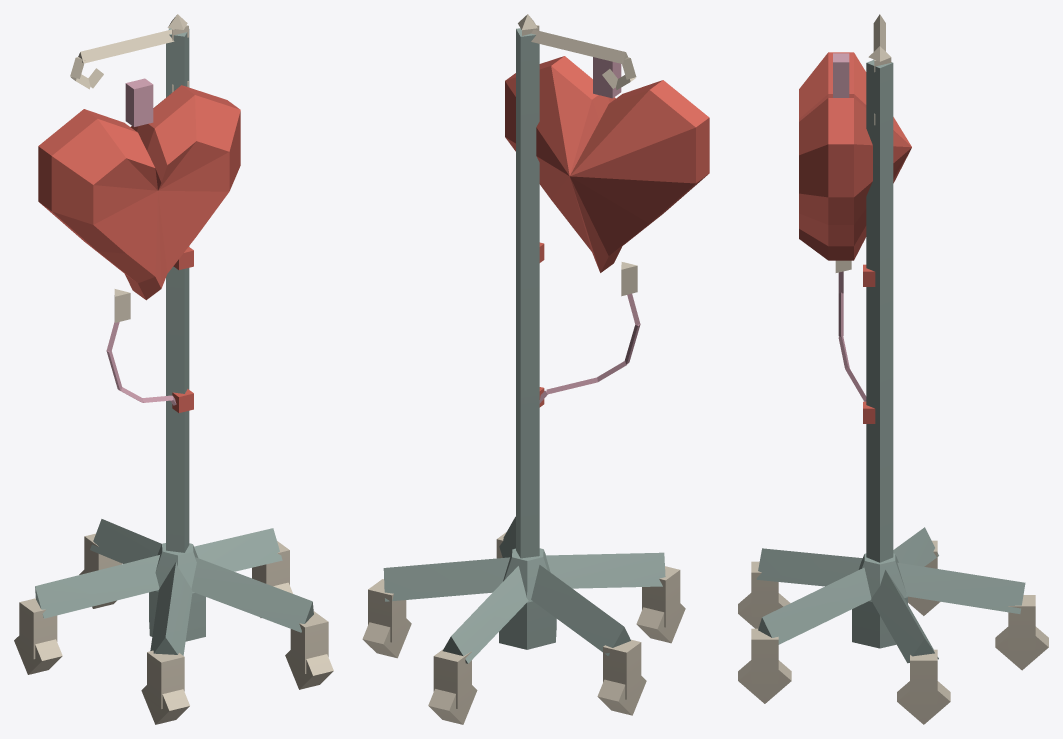
Rendered from iv-heart.glb.
3 renders of one model, left to right at view 1: azimuth 30°, elevation 25°; view 2: azimuth 150°, elevation 25°; view 3: azimuth 270°, elevation 25°, orthographic. The views are drawn at different scales.
Visible parts, largest first — view 1: root_mesh, swing_mesh; view 2: root_mesh, swing_mesh; view 3: root_mesh, swing_mesh.
Part boxes in pixels (bbox=[...]): root_mesh: bbox=[14, 14, 333, 724]; swing_mesh: bbox=[38, 78, 240, 322]; root_mesh: bbox=[362, 14, 685, 724]; swing_mesh: bbox=[505, 56, 709, 296]; root_mesh: bbox=[738, 14, 1048, 724]; swing_mesh: bbox=[799, 52, 911, 272].
Bounding box in the file's own units: 1 × 2.2 × 1.
